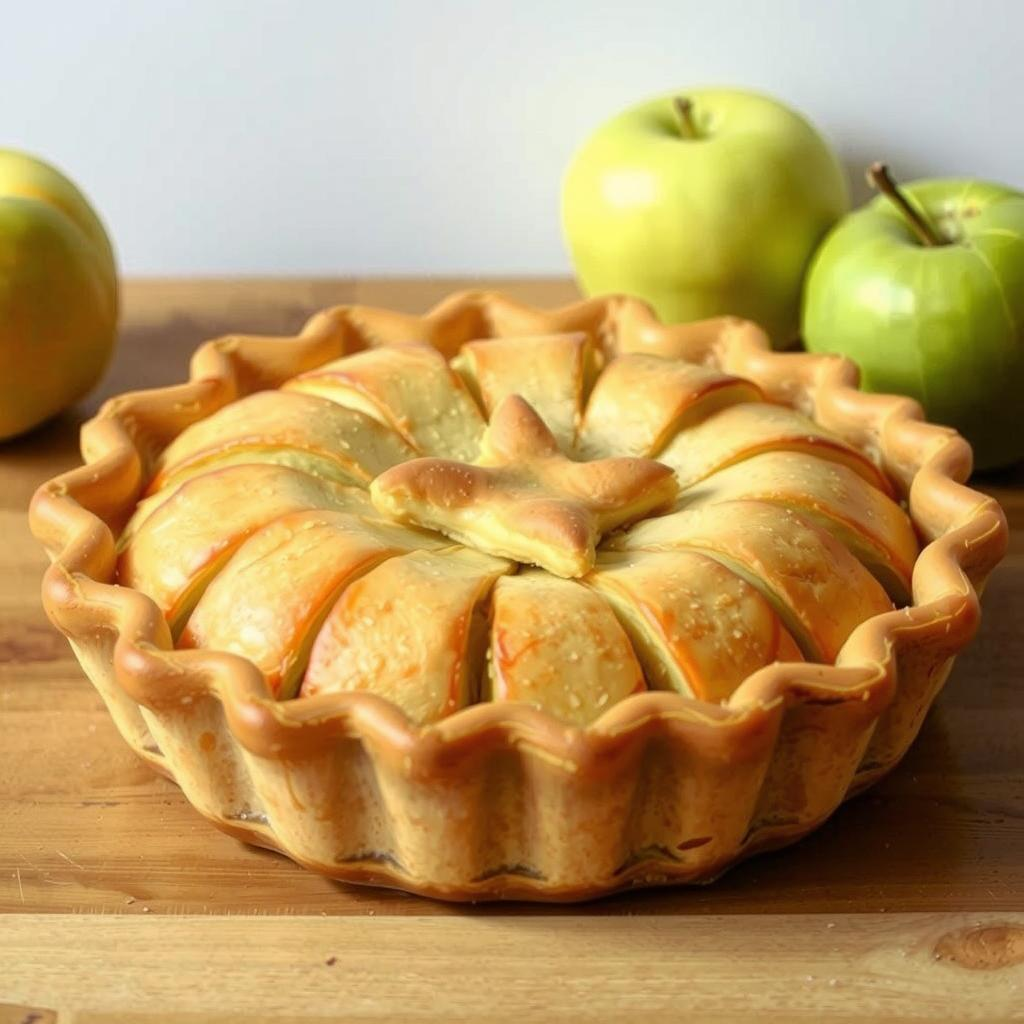cake: (17, 276, 1024, 904)
